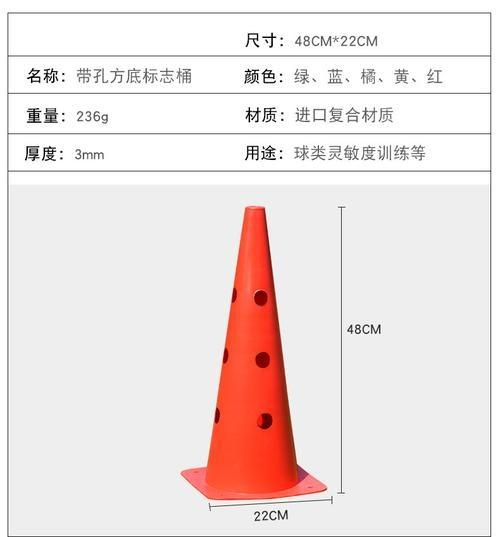cone_barrel: (182, 211, 320, 502)
